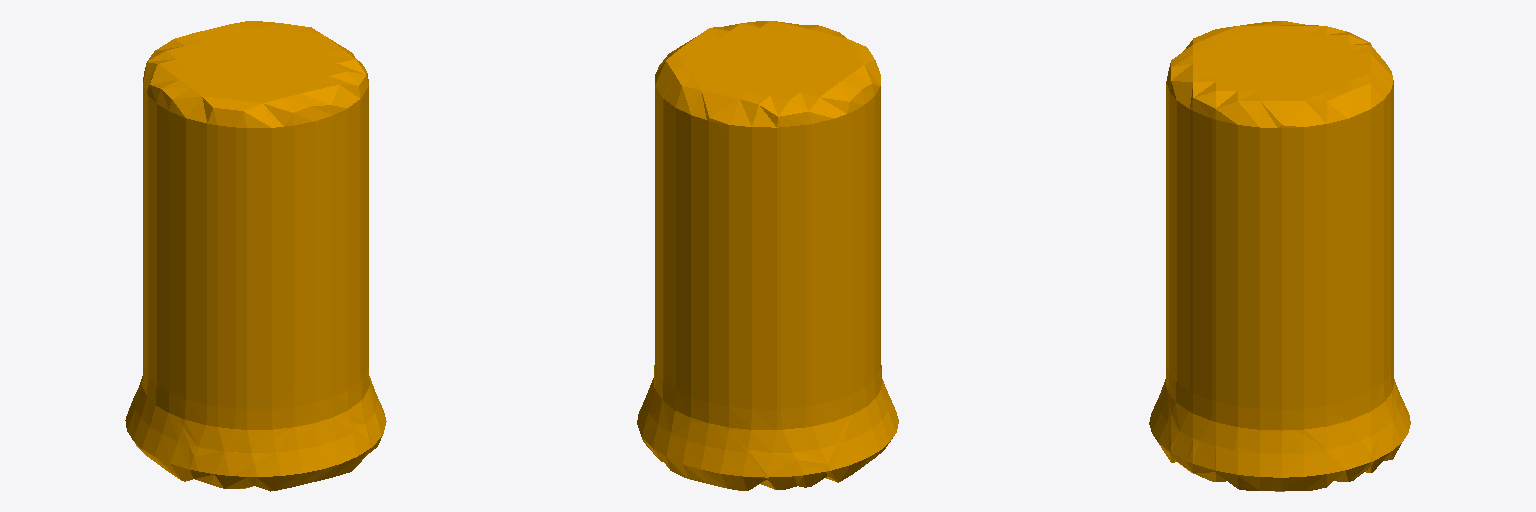
robot.urdf — cylinder_../../meshes/cylinders/cylinder_14.stl:
<?xml version="1.0" encoding="utf-8"?>  <robot name="cylinder_../../meshes/cylinders/cylinder_14.stl">   <link name="cylinder_../../meshes/cylinders/cylinder_14.stl">     <visual>       <geometry>         <mesh filename="../meshes/cylinders/cylinder_14.stl" scale="1 1 1"/>       </geometry>     </visual>     <collision>       <geometry>         <mesh filename="../meshes/cylinders/cylinder_14.stl" scale="1 1 1"/>       </geometry>     </collision>     <inertial>        <origin         xyz="0 0 0"         rpy="0 0 0" />       <mass value="0.1940451928625225"/>       <origin rpy="0 0 0" xyz="0 0 0"/>       <inertia ixx="0.00017626983692918435" ixy="-1.1484113500751053e-09" ixz="9.635674634468972e-08" iyy="0.00017626929401958578" iyz="7.910365392426093e-08" izz="6.502110073812571e-05"/>     </inertial>   </link>  </robot>

--- What the picture shows (computed from the rendered views, not written in the file) ---
Views: 3 orthographic renders of the robot side by side, from view 1: azimuth 30°, elevation 25°; view 2: azimuth 150°, elevation 25°; view 3: azimuth 270°, elevation 25°.
Model cylinder_../../meshes/cylinders/cylinder_14.stl with 1 links and 0 joints (none), rooted at cylinder_../../meshes/cylinders/cylinder_14.stl, posed every joint at zero.
Visible links, largest first — view 1: cylinder_../../meshes/cylinders/cylinder_14.stl; view 2: cylinder_../../meshes/cylinders/cylinder_14.stl; view 3: cylinder_../../meshes/cylinders/cylinder_14.stl.
Boxes of the visible links, box(x1,y1,x2,y2) form: cylinder_../../meshes/cylinders/cylinder_14.stl: box(125, 21, 386, 491); cylinder_../../meshes/cylinders/cylinder_14.stl: box(637, 21, 898, 490); cylinder_../../meshes/cylinders/cylinder_14.stl: box(1149, 21, 1410, 491).
Size in the robot's own frame: 0.0589 by 0.0589 by 0.0948 metres.
1 mesh visuals loaded from 1 distinct referenced files (1 binary STL).